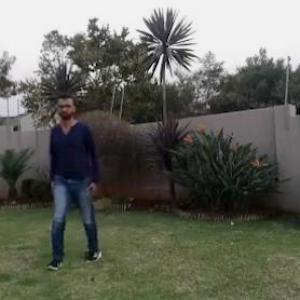follow: (50, 91, 94, 245)
